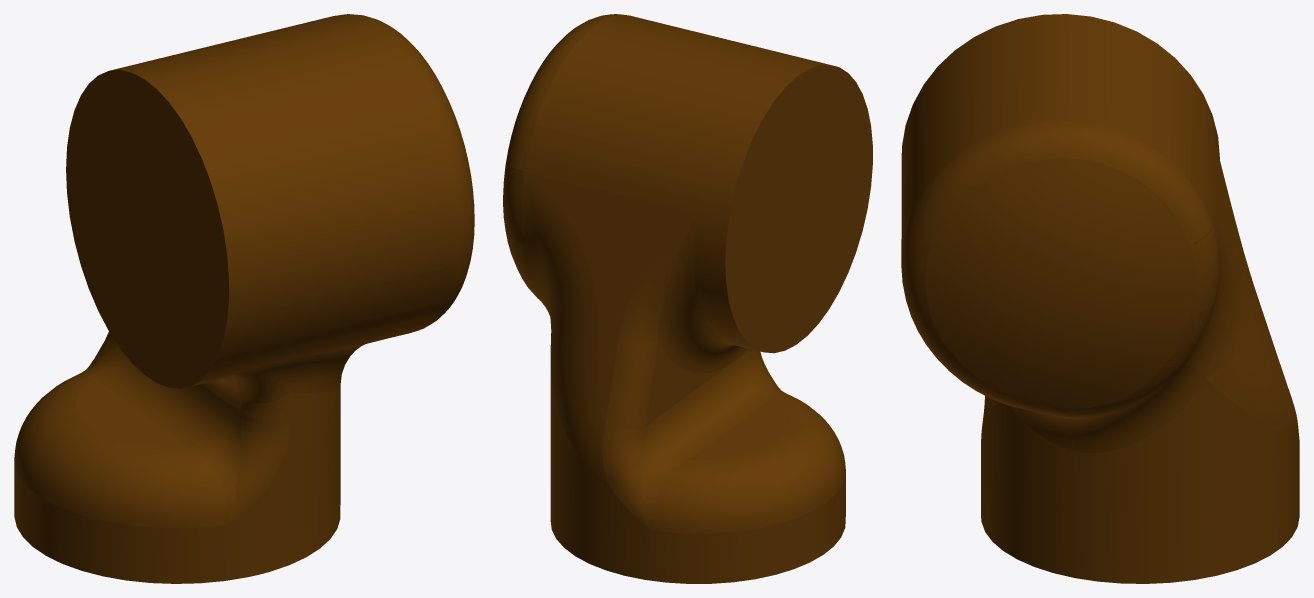
File: offset_link.obj
The picture shows the model from 3 angles, left to right: view 1: azimuth 30°, elevation 25°; view 2: azimuth 150°, elevation 25°; view 3: azimuth 270°, elevation 25°; orthographic projection. The views are drawn at different scales.
Parts seen in each view (by area): view 1: mesh_1_offs; view 2: mesh_1_offs; view 3: mesh_1_offs.
Boxes of the visible parts, <box> form: mesh_1_offs: <box>14,14,474,583</box>; mesh_1_offs: <box>503,14,872,583</box>; mesh_1_offs: <box>901,14,1299,583</box>.
Bounding box in the file's own units: 0.0999 × 0.13 × 0.1.
